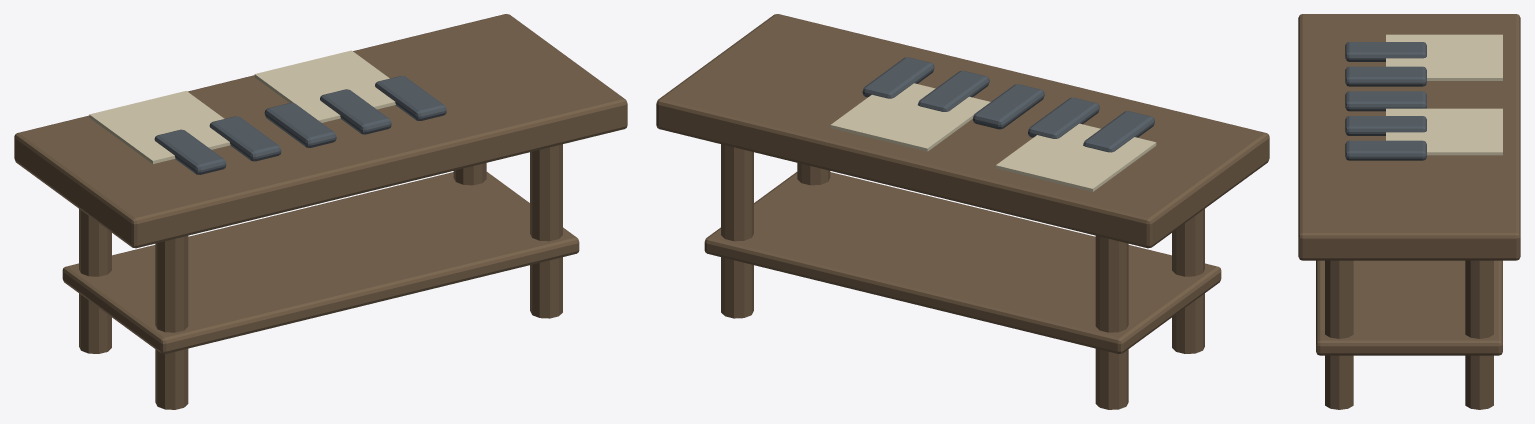
Rendered from dungeon_workbench.glb.
3 renders of one model, left to right at view 1: azimuth 30°, elevation 25°; view 2: azimuth 150°, elevation 25°; view 3: azimuth 270°, elevation 25°, orthographic. The views are drawn at different scales.
Visible parts, largest first — view 1: Body.027; view 2: Body.027; view 3: Body.027.
Part boxes in pixels (x1,y1,x2,y2): Body.027: (14, 14, 627, 409); Body.027: (656, 14, 1269, 409); Body.027: (1298, 14, 1520, 409).
Bounding box in the file's own units: 2.25 × 0.9825 × 0.95.
